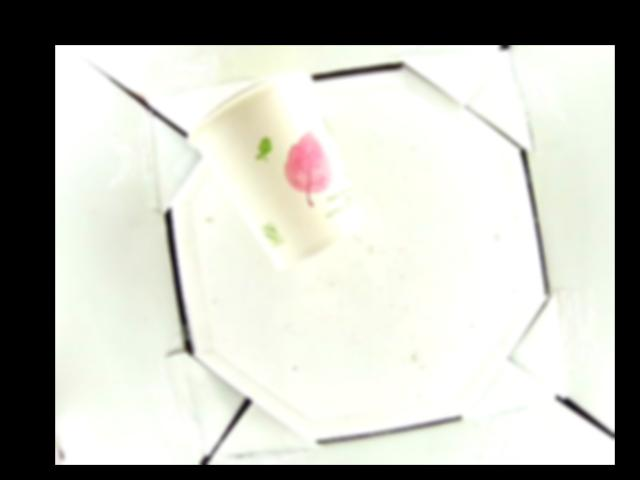Cup: (183, 74, 368, 270)
